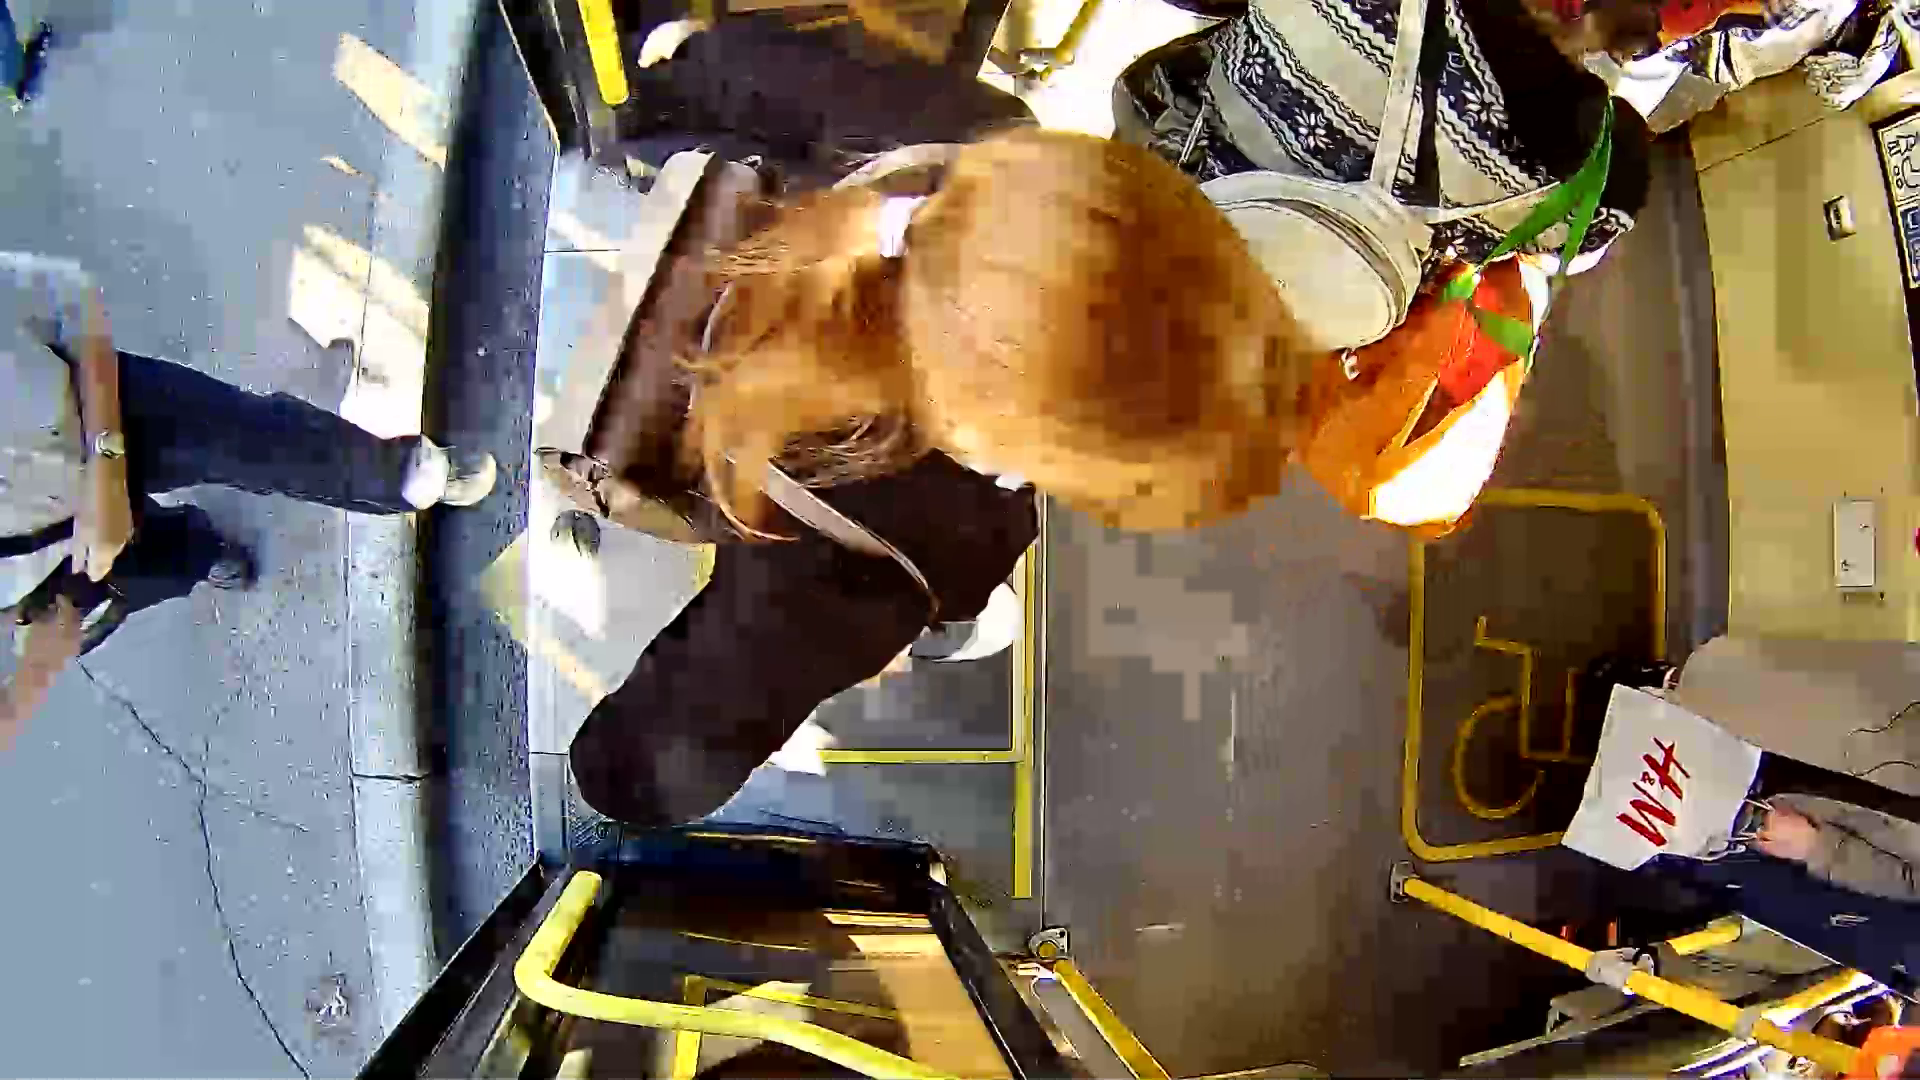person: (515, 159, 1352, 682)
